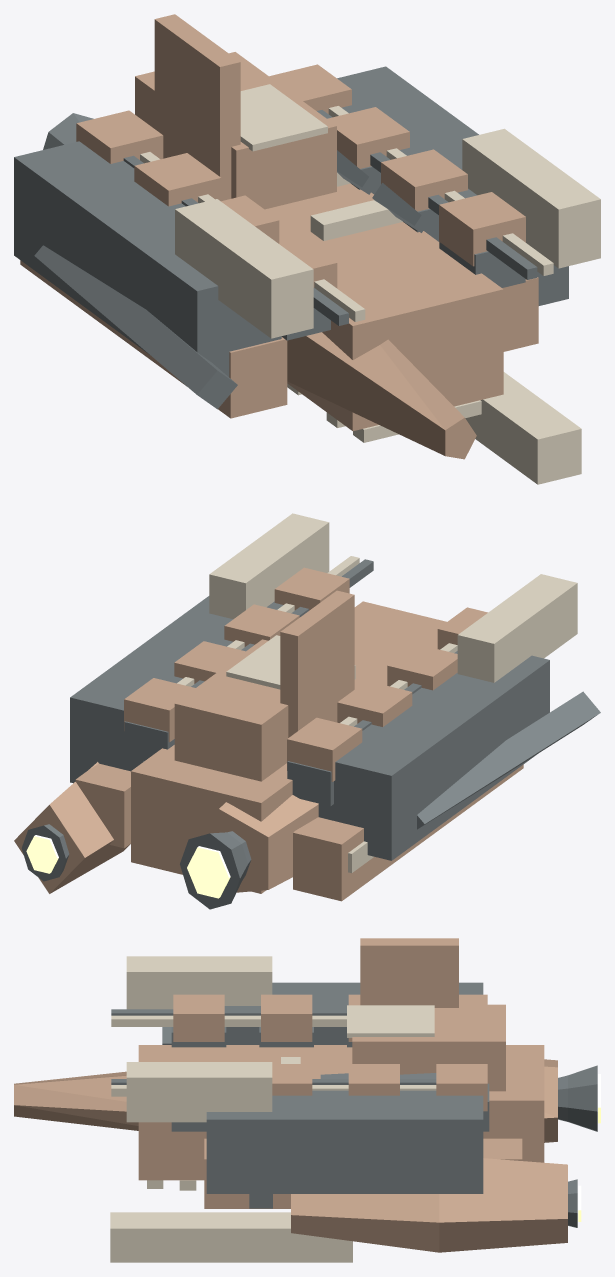
3 renders of one model, top to bottom at view 1: azimuth 30°, elevation 25°; view 2: azimuth 150°, elevation 25°; view 3: azimuth 270°, elevation 25°, orthographic. The views are drawn at different scales.
Size of the model in its own units: 13.39 by 10.15 by 21.42.
